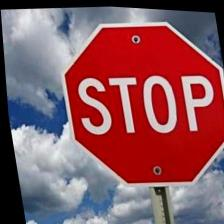Stop: (50, 10, 224, 196)
